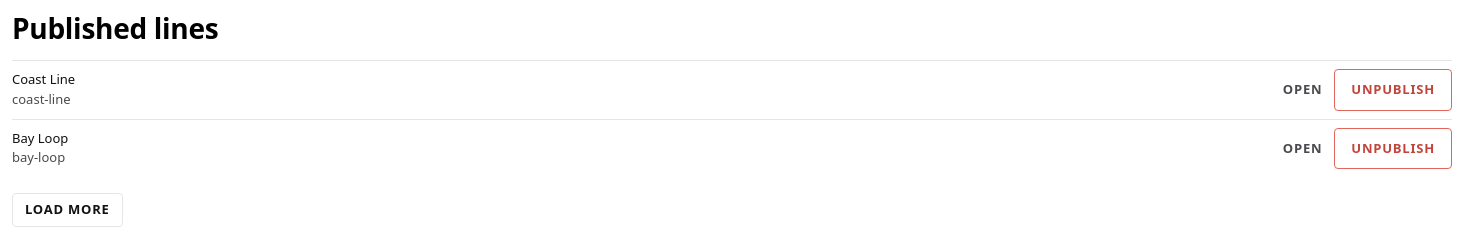
Test: AdminPublished › reads further pages on request
Click the button with test id "published-more" at (67, 210), box [12,193,123,227]
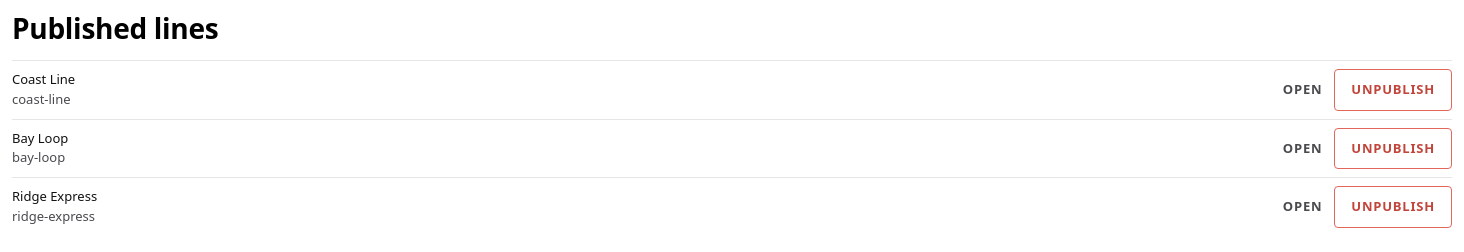
Expected: the list item with test id "published-row-coast-line" is shown, [12,60,1452,119]
Now the list item with test id "published-row-ridge-express" is shown, box [12,177,1452,236]
